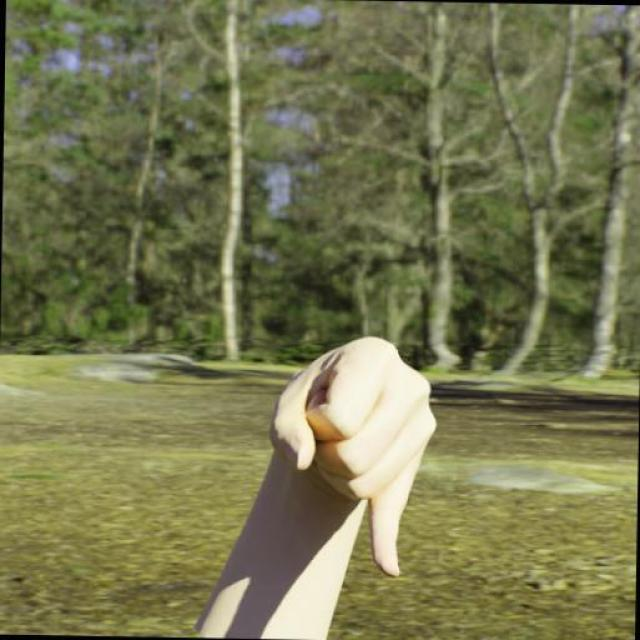J: (261, 331, 440, 581)
